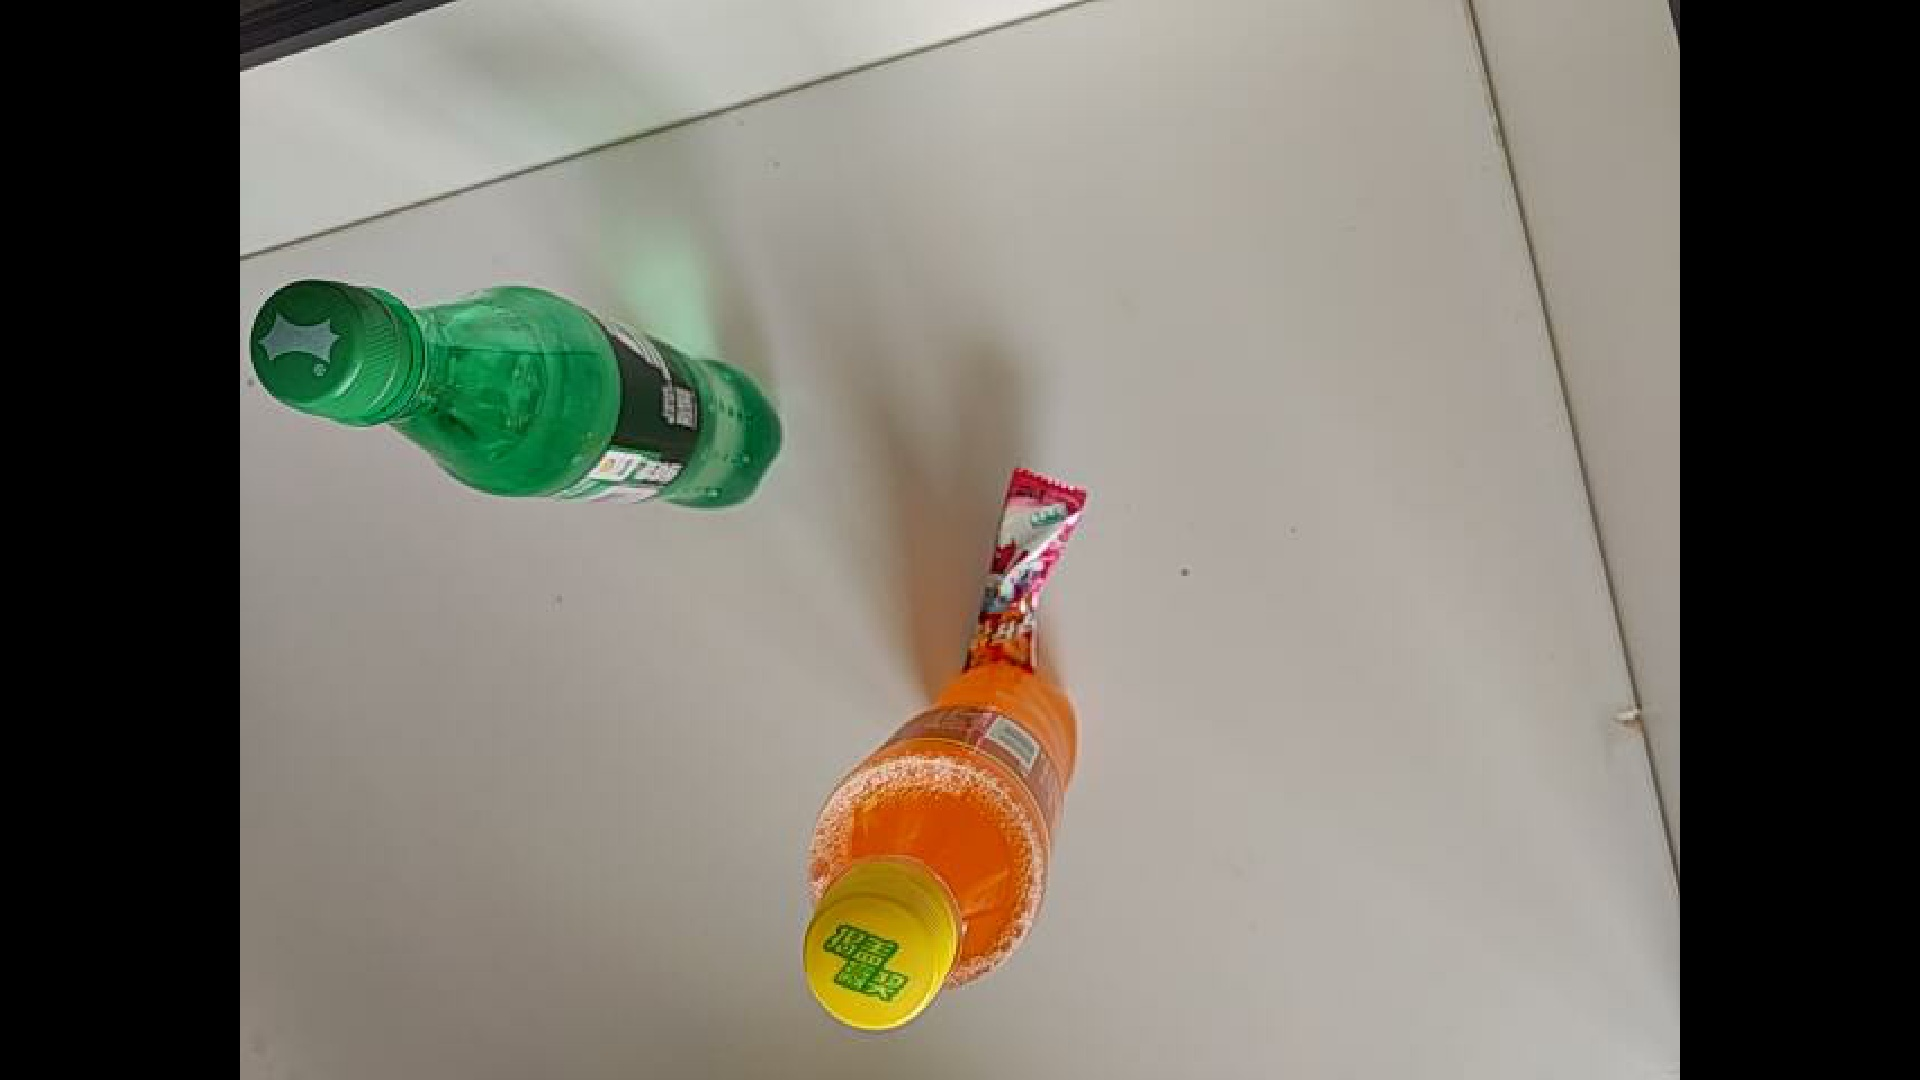fenta: (802, 662, 1079, 1033)
sprite: (249, 277, 786, 512)
sugar: (893, 463, 1093, 686)
